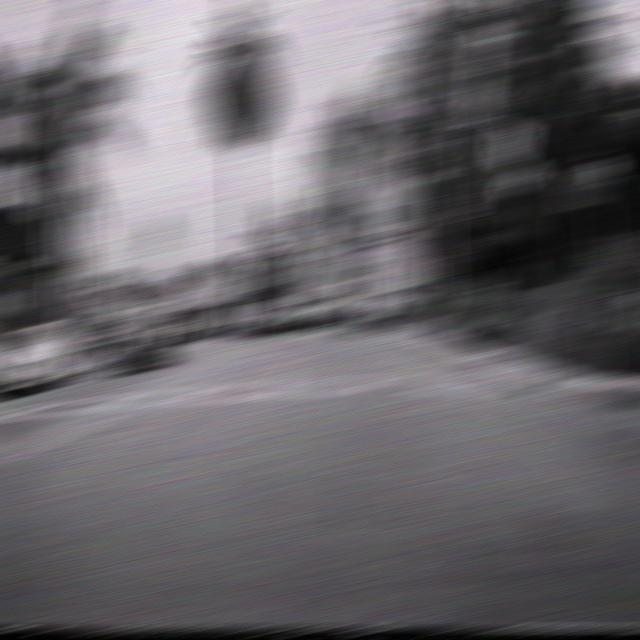pedestrianCrossing: (489, 118, 530, 168)
